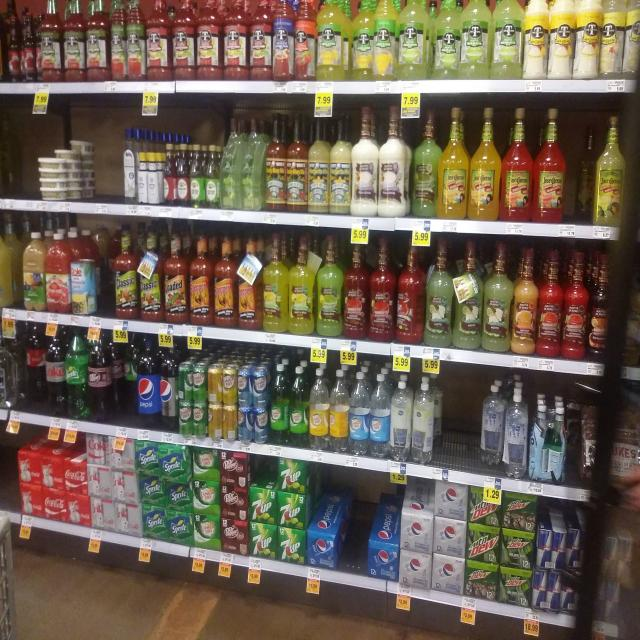void: (446, 370, 476, 482), (4, 94, 31, 211), (341, 468, 364, 585), (96, 97, 118, 215), (2, 424, 16, 526)
